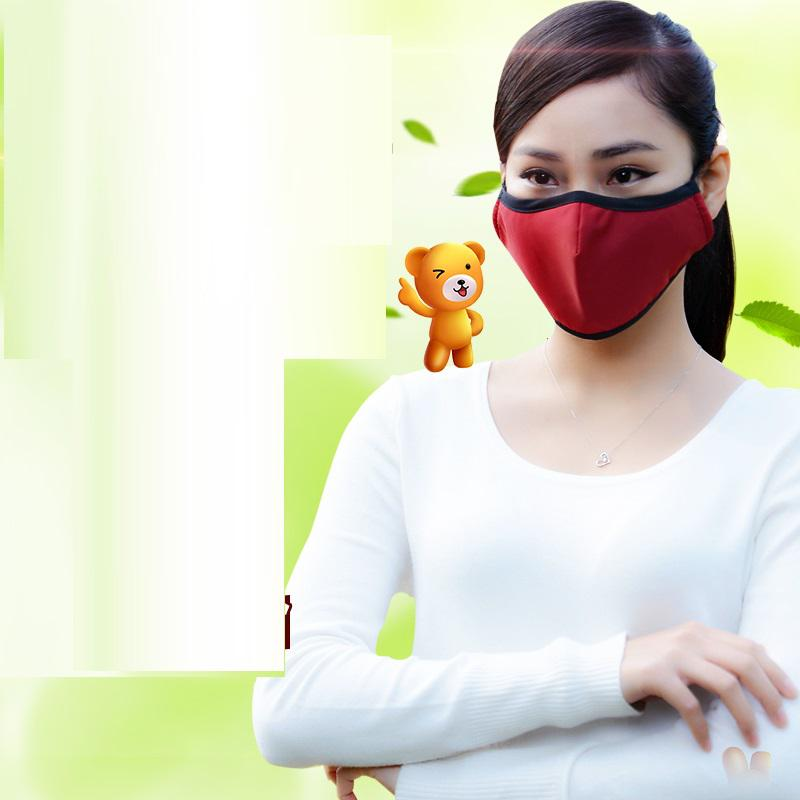OK: (507, 122, 688, 345)
